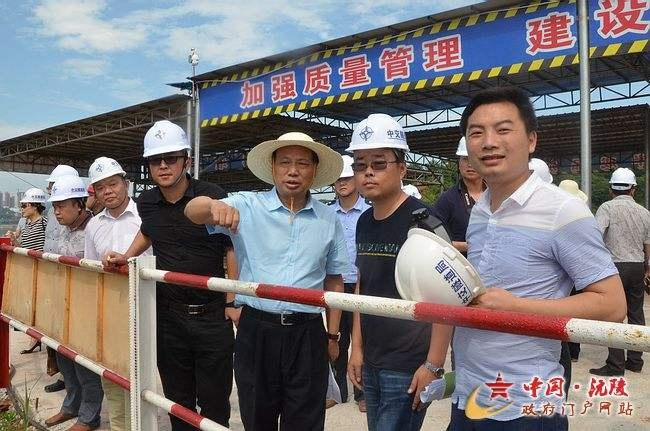none: (463, 87, 532, 181)
white: (347, 109, 406, 200), (141, 116, 192, 189), (269, 132, 319, 199), (89, 154, 128, 211), (48, 174, 86, 226), (608, 161, 637, 202), (330, 153, 356, 196), (456, 135, 479, 182), (19, 188, 45, 220)
